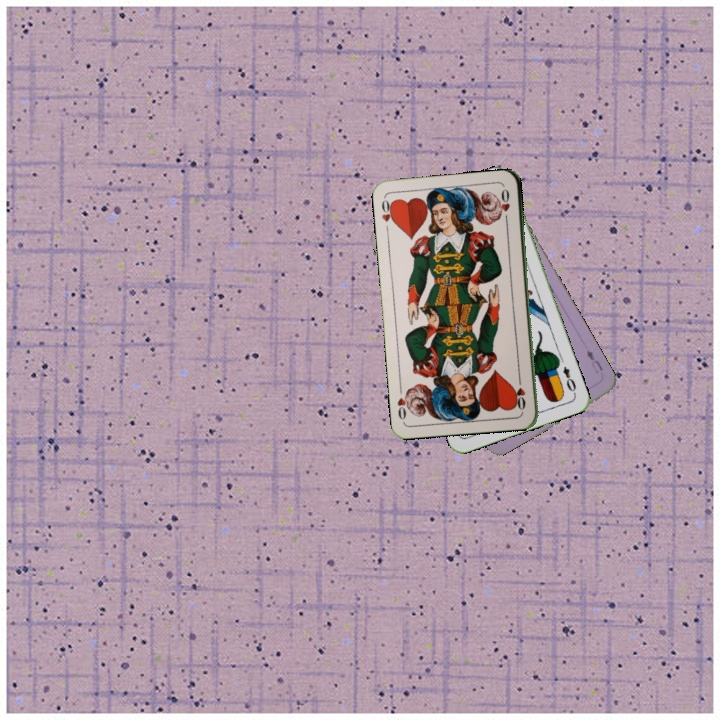EO: (559, 362, 579, 397)
EU: (582, 345, 606, 376)
HO: (378, 194, 398, 226), (513, 373, 528, 412)
